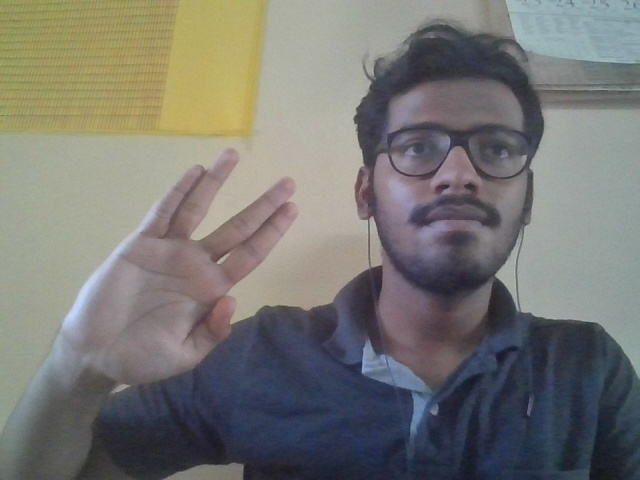LiveLong: (65, 148, 301, 383)
